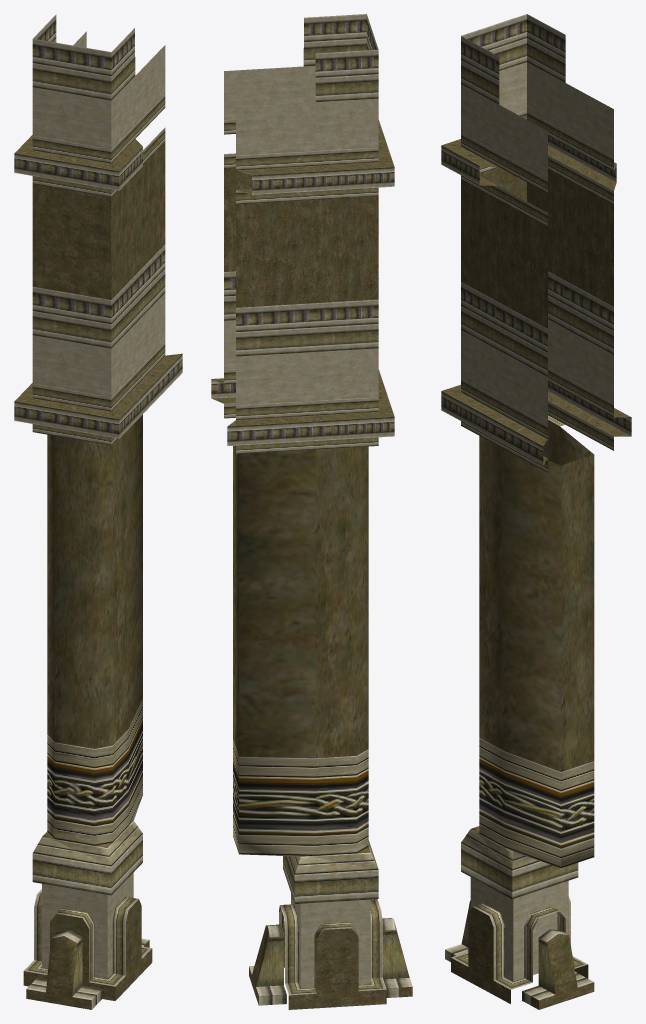
Rendered from CH09_SMAUG_PLAYSURFACE_LAIR504.fbx.
3 renders of one model, left to right at view 1: azimuth 30°, elevation 25°; view 2: azimuth 150°, elevation 25°; view 3: azimuth 270°, elevation 25°, orthographic.
Visible parts, largest first — view 1: CH09_SMAUG_PLAYSURFACE_LAIR504; view 2: CH09_SMAUG_PLAYSURFACE_LAIR504; view 3: CH09_SMAUG_PLAYSURFACE_LAIR504.
Boxes of the visible parts, <box> form: CH09_SMAUG_PLAYSURFACE_LAIR504: <box>14,14,182,1009</box>; CH09_SMAUG_PLAYSURFACE_LAIR504: <box>211,14,412,1009</box>; CH09_SMAUG_PLAYSURFACE_LAIR504: <box>441,14,631,1009</box>.
Bounding box in the file's own units: 53568 × 271667 × 50068.
7 materials, 7 textured.
